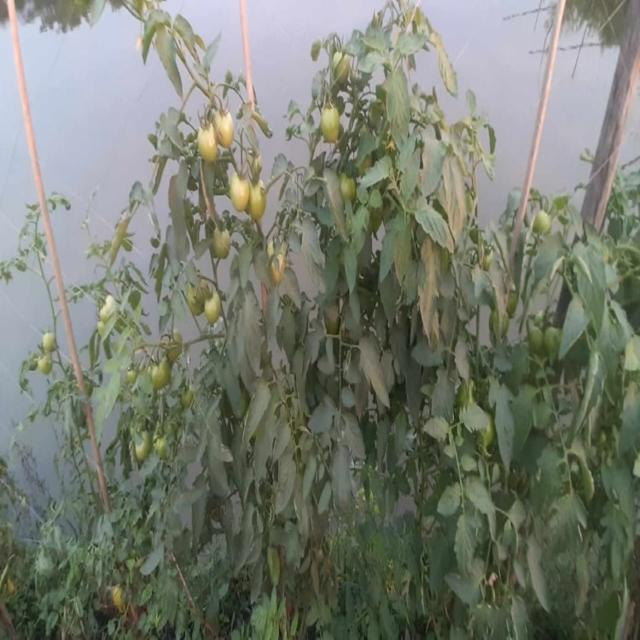tomato: (530, 316, 565, 354), (318, 101, 346, 148), (196, 121, 220, 170), (227, 172, 251, 218), (212, 110, 234, 155), (212, 225, 234, 265), (250, 178, 267, 222), (153, 432, 175, 463), (133, 437, 157, 464), (203, 293, 224, 322), (100, 293, 120, 322), (271, 257, 290, 287), (40, 353, 60, 381), (537, 209, 554, 239), (341, 174, 356, 207), (155, 367, 175, 389), (41, 330, 60, 353), (114, 585, 126, 613)
